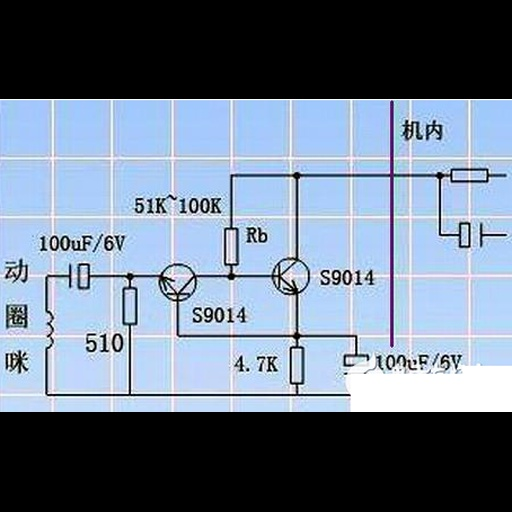firstresistance: (118, 284, 144, 328), (220, 226, 243, 268), (449, 166, 492, 188), (287, 345, 309, 387)
npn: (276, 262, 301, 293), (162, 274, 194, 297)
